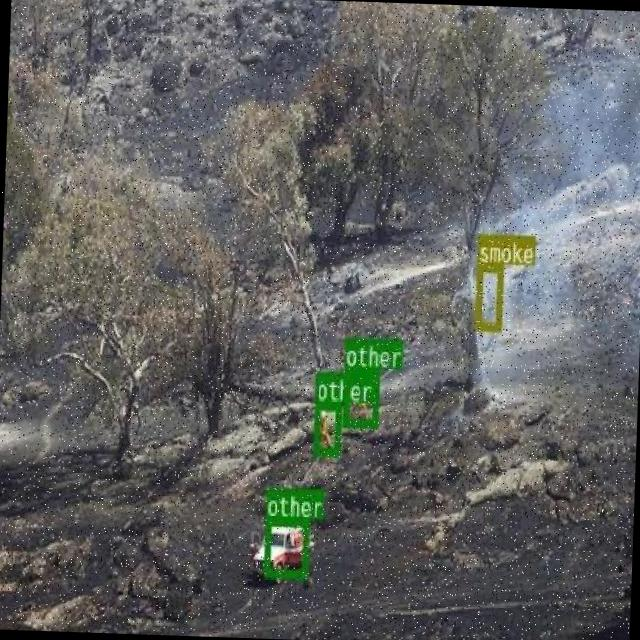smoke: (475, 264, 502, 329)
